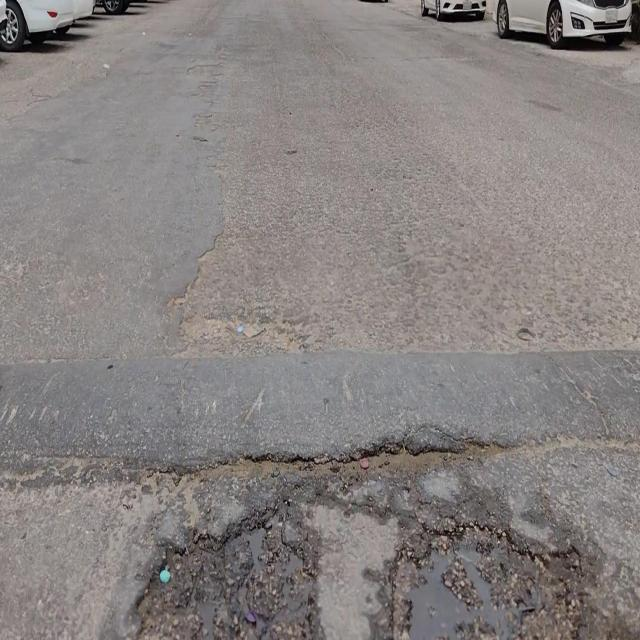Pothole: (132, 498, 316, 638), (380, 522, 584, 638)
